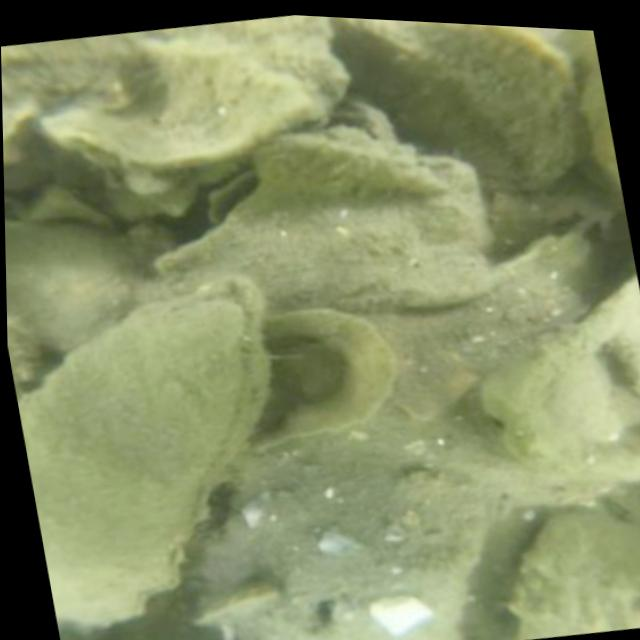Oyster-Closed: (22, 278, 269, 622)
Oyster-Indeterminate: (152, 136, 493, 312), (193, 470, 505, 640), (343, 18, 585, 186), (480, 274, 640, 483), (232, 306, 403, 460), (1, 37, 158, 147), (5, 218, 135, 350), (513, 512, 640, 640), (260, 135, 452, 200)
